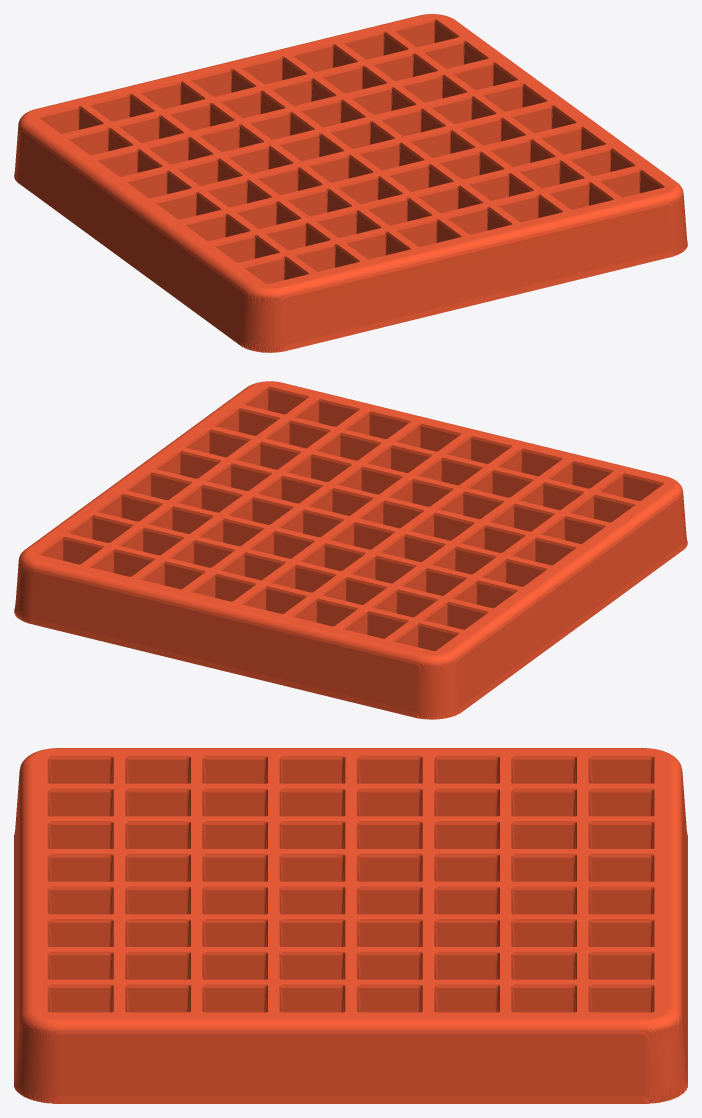
Rendered from mold.glb.
3 renders of one model, top to bottom at view 1: azimuth 30°, elevation 25°; view 2: azimuth 150°, elevation 25°; view 3: azimuth 270°, elevation 25°, orthographic. The views are drawn at different scales.
Parts seen in each view (by area): view 1: geometry_0; view 2: geometry_0; view 3: geometry_0.
Part boxes in pixels (bbox=[...]): geometry_0: bbox=[14, 14, 687, 352]; geometry_0: bbox=[14, 381, 687, 719]; geometry_0: bbox=[14, 748, 687, 1103].
Size of the model in its own units: 0.1355 by 0.0172 by 0.1355.
